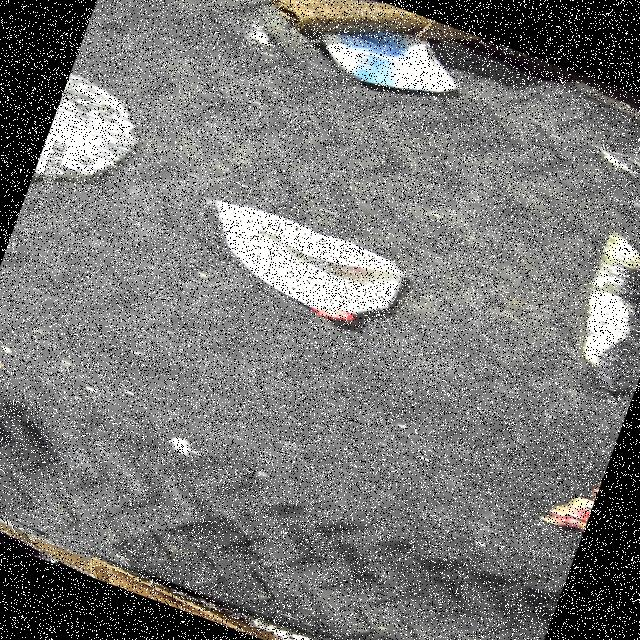milk-jug: (187, 192, 419, 342)
